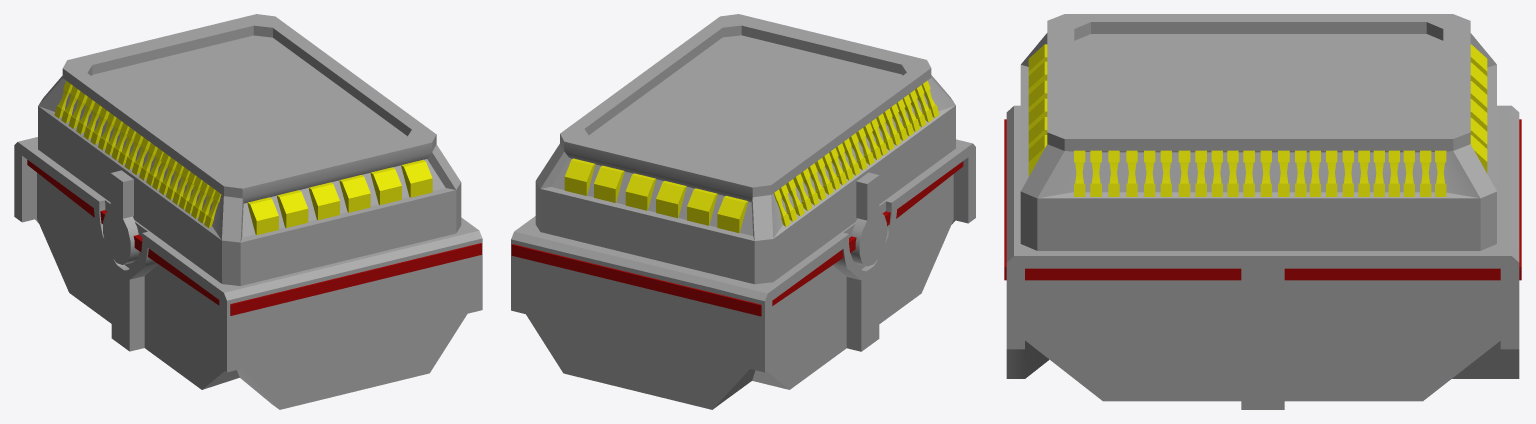
File: The_cofre.fbx
3 renders of one model, left to right at view 1: azimuth 30°, elevation 25°; view 2: azimuth 150°, elevation 25°; view 3: azimuth 270°, elevation 25°, orthographic. The views are drawn at different scales.
Visible parts, largest first — view 1: TheCofre_tape, TheCofre, TheCofre_Light; view 2: TheCofre_tape, TheCofre, TheCofre_Light; view 3: TheCofre_tape, TheCofre, TheCofre_Light.
Boxes of the visible parts, x1,y1,x2,y2 form: TheCofre_tape: [38, 14, 461, 285]; TheCofre: [14, 137, 482, 409]; TheCofre_Light: [27, 160, 481, 315]; TheCofre_tape: [535, 14, 955, 284]; TheCofre: [511, 139, 975, 409]; TheCofre_Light: [511, 161, 963, 316]; TheCofre_tape: [1020, 14, 1496, 250]; TheCofre: [1006, 105, 1519, 409]; TheCofre_Light: [1004, 119, 1521, 280].
Size of the model in its own units: 209 by 165 by 299.
